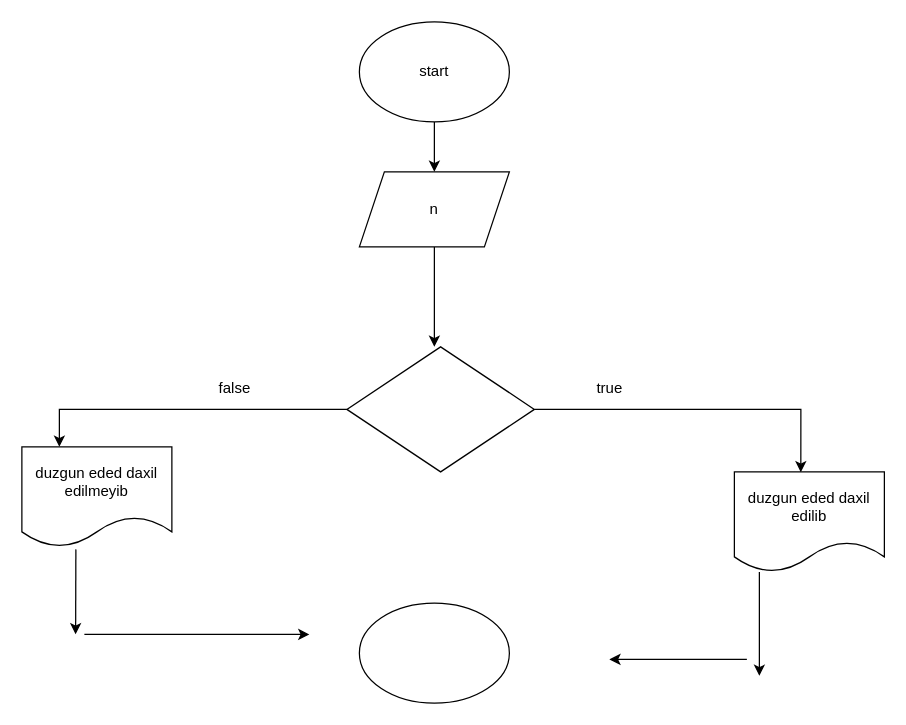
The diagram is 906 pixels wide and 725 high, and some of its shapes have lost their labels. The shapes that lost their labels are listed below. From the top down, each one's centre as x and y in pixels, then its label:
At [440,409]: "n>100 n%2==1 OR n<100 n%2==0".
At [433,652]: "end".
